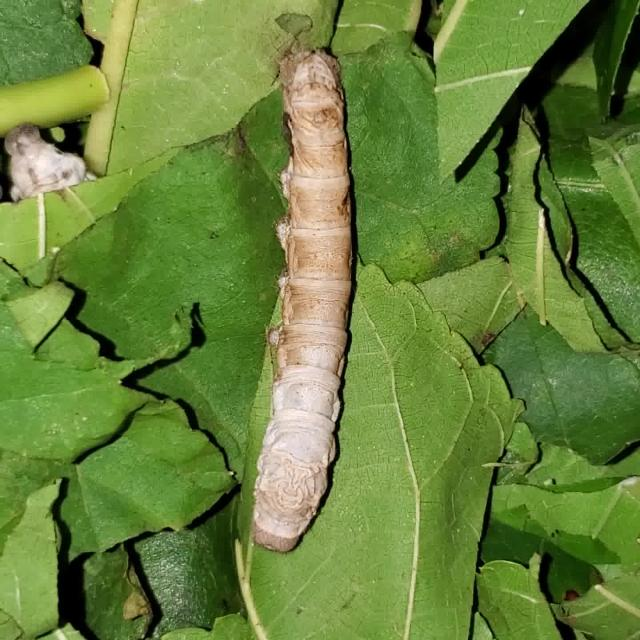Grasserie: (233, 34, 378, 566)
